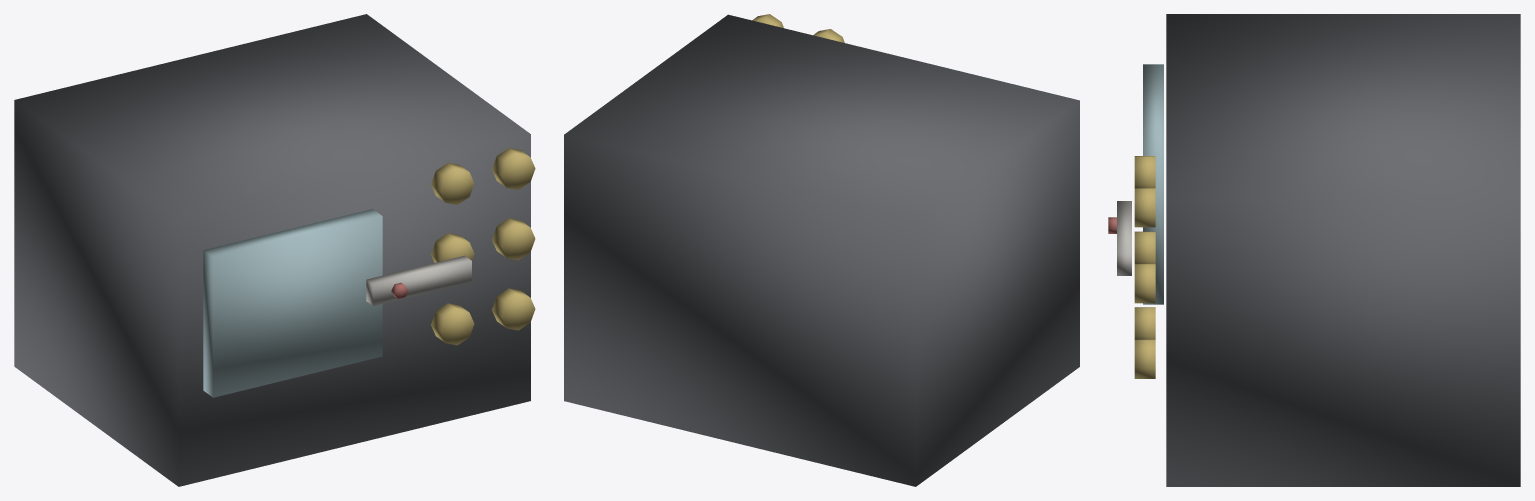
File: oscilloscope__reinforced.glb
3 views of the same model, side by side, from view 1: azimuth 30°, elevation 25°; view 2: azimuth 150°, elevation 25°; view 3: azimuth 270°, elevation 25° (orthographic). The views are drawn at different scales.
Parts seen in each view (by area): view 1: world; view 2: world; view 3: world.
Part boxes in pixels (x1=…): world: x1=14, y1=14, x2=535, y2=486; world: x1=564, y1=14, x2=1079, y2=486; world: x1=1108, y1=14, x2=1520, y2=486.
Size of the model in its own units: 0.5356 by 0.3876 by 0.5032.
